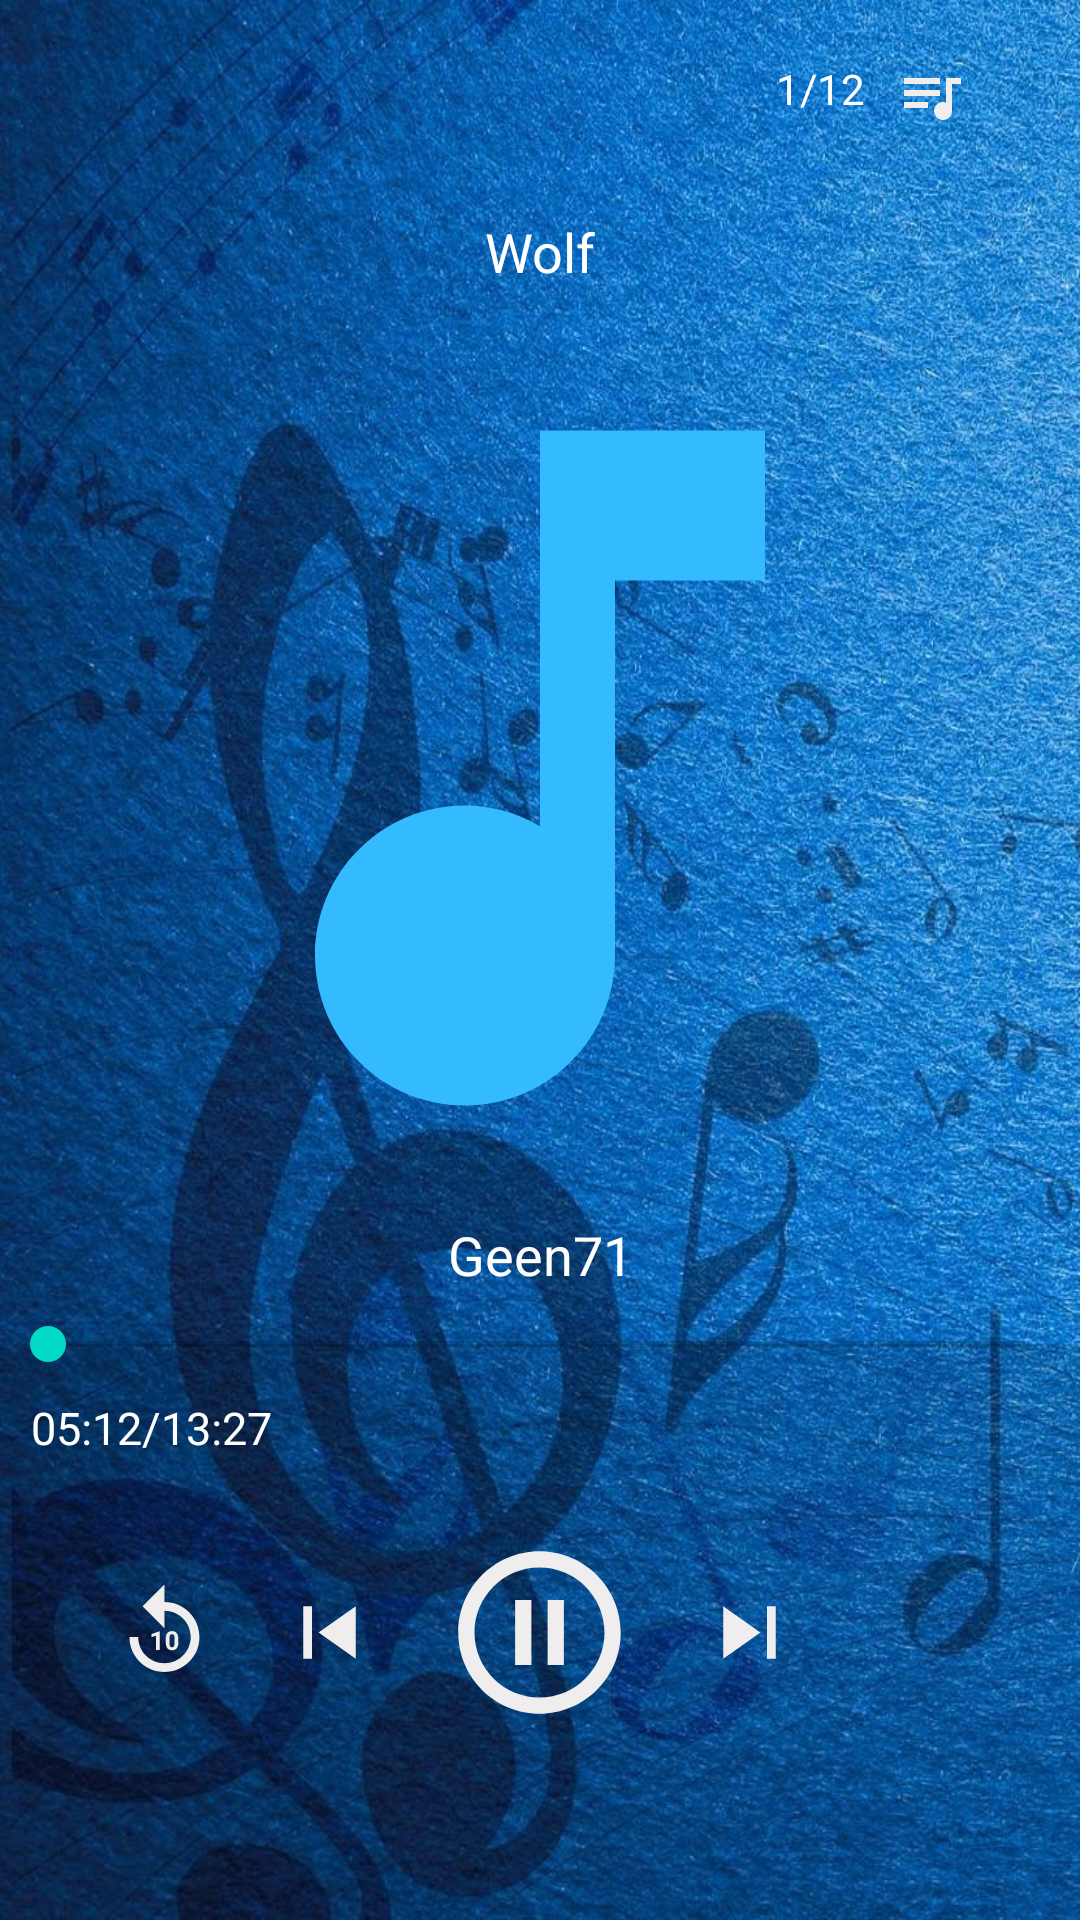

Screen size 1080*1920. Icon name, then its center in pixels as (x,y):
music list: (931,96)
pause circle: (539,1632)
replay back: (164,1632)
skip next: (749,1632)
skip previous: (329,1632)
